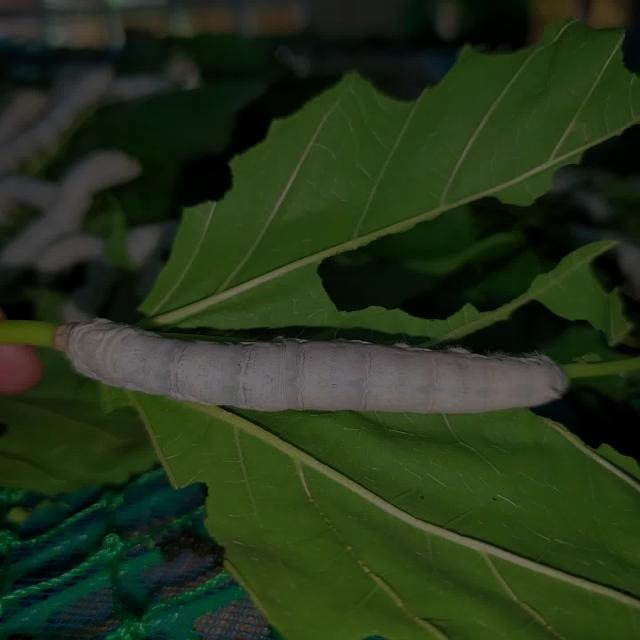Healthy: (41, 254, 594, 486)
